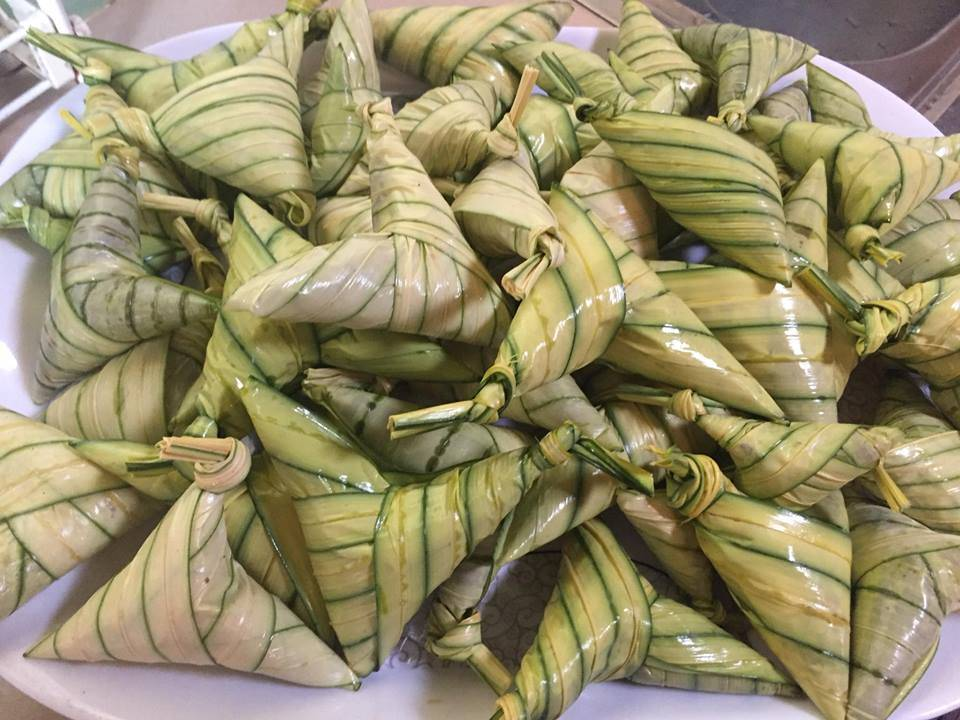kanomtom: (218, 368, 586, 688), (24, 435, 367, 704), (236, 80, 539, 371), (475, 478, 811, 716), (495, 169, 791, 427), (77, 20, 345, 222), (30, 133, 230, 401)
